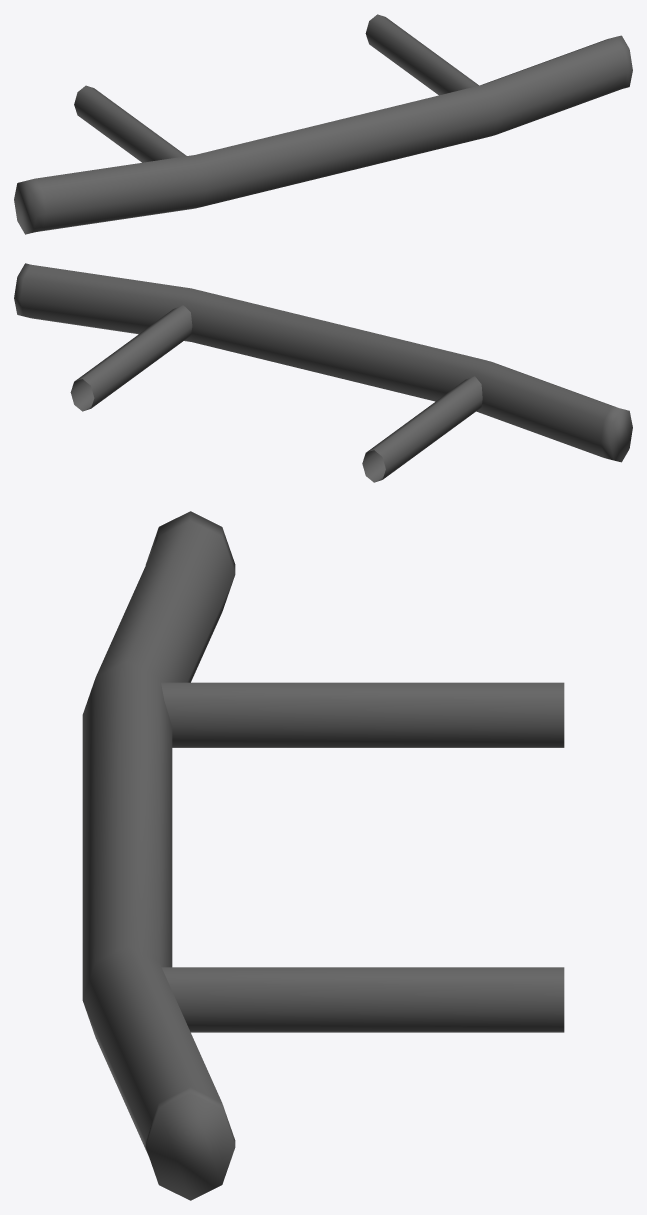
The model's file is Desk_323_1_desk_drawer_323_3_handle.obj.
The picture shows the model from 3 angles, top to bottom: view 1: azimuth 30°, elevation 25°; view 2: azimuth 150°, elevation 25°; view 3: azimuth 270°, elevation 25°; orthographic projection. The views are drawn at different scales.
Size of the model in its own units: 0.1255 by 0.0108 by 0.0439.
